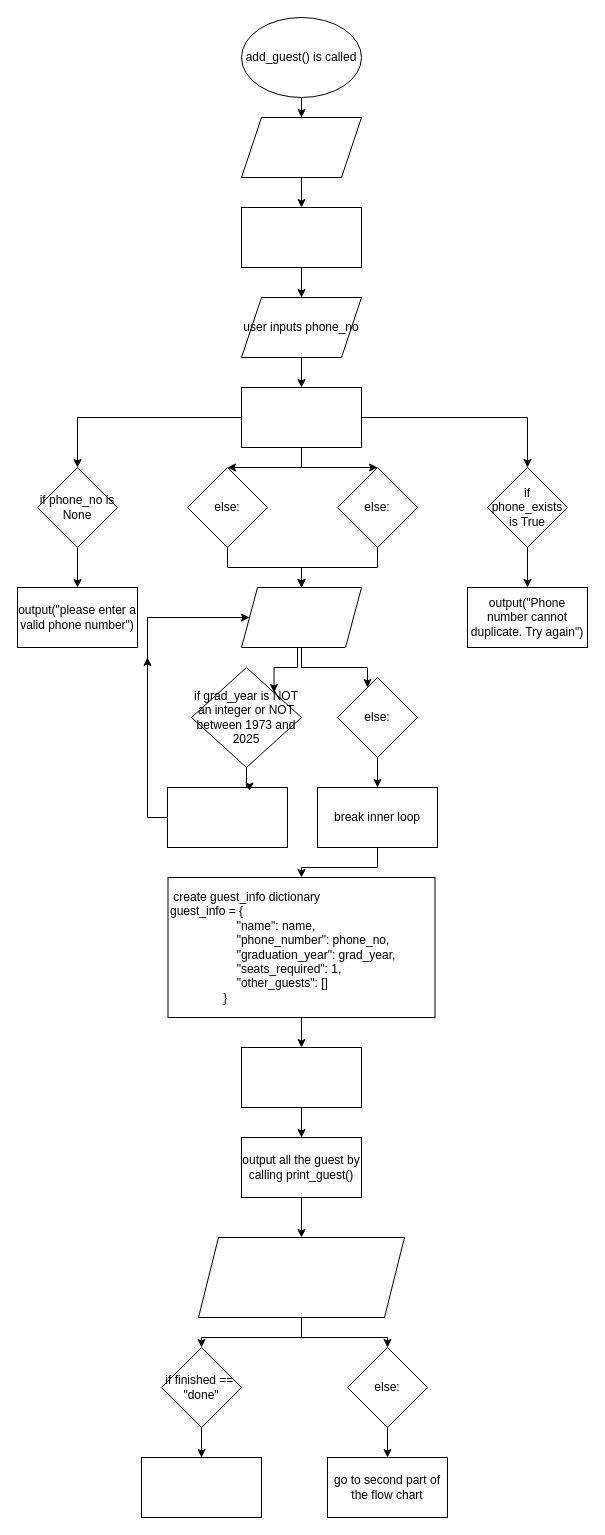
Image size: 605x1535. Some labels were removed from this diagram. Each missing label, with the box of its shape:
append the guest information into guest_info dictionary: (240, 1046, 362, 1108)
call check_phone() call phone_exists(): (240, 386, 362, 448)
call menu() break: (140, 1456, 262, 1518)
finished = user input "done" if they want to add other guests orn nott: (198, 1236, 404, 1318)
name = check_name(name) to validate: (240, 206, 362, 268)
output("invalid. Please try again"): (166, 786, 288, 848)
user inputs grad_year: (240, 586, 362, 648)
user inputs name: (240, 116, 362, 178)
